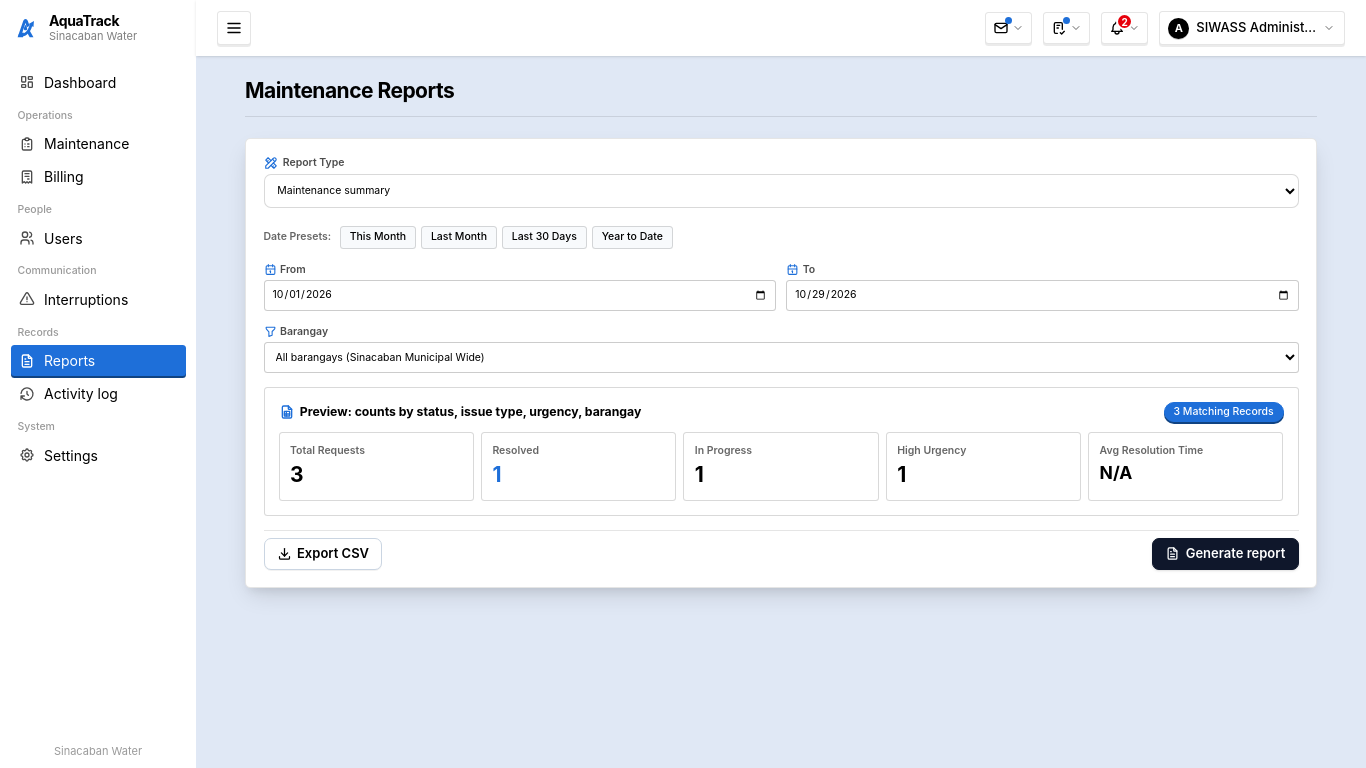
Test: AdminReportsView (Section 10 & Revised PDF Output Workflow) › builds PDF and saves to Activity Log with Report ready confirmation
The image size is (1366, 768).
Click the button "Generate report" at (1225, 554), box x1=1152 y1=538 x2=1298 y2=570
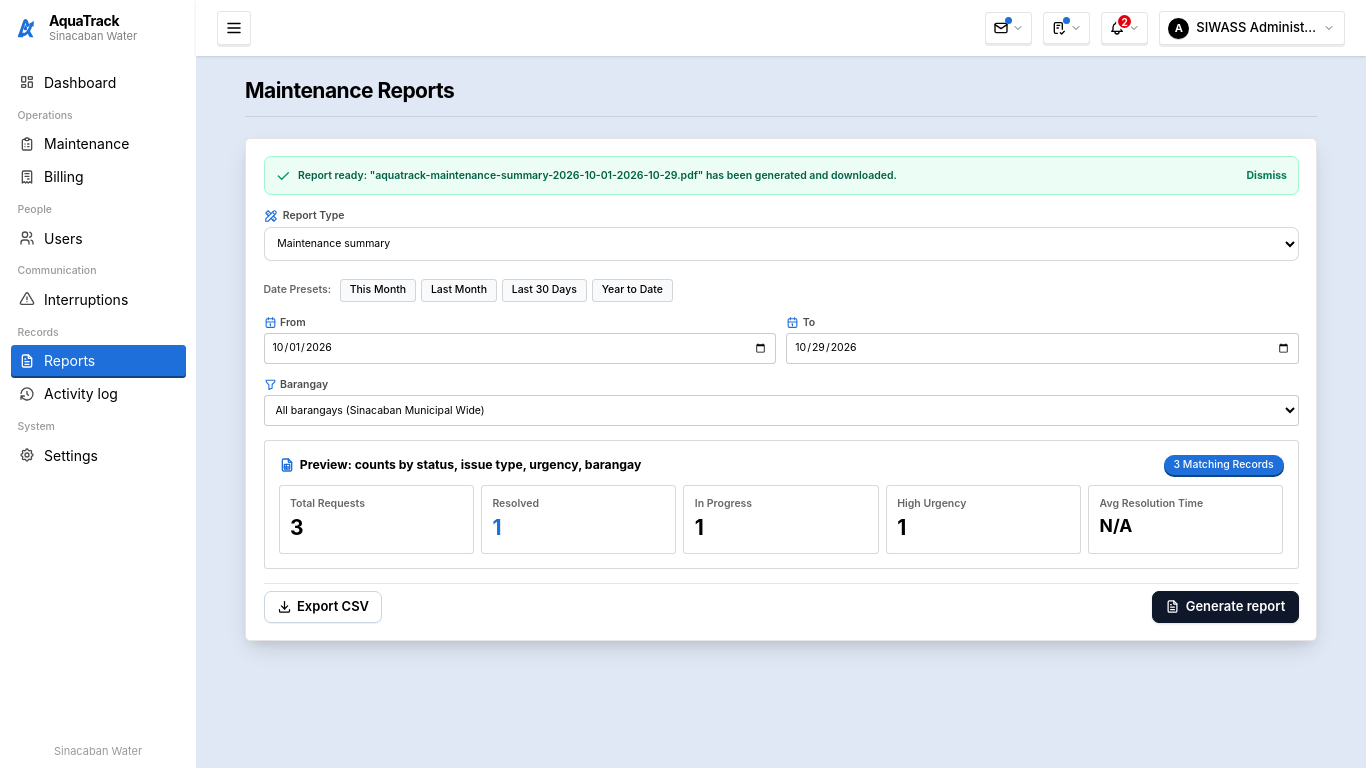
Now the text "Report ready" is shown, box x1=298 y1=168 x2=897 y2=182
